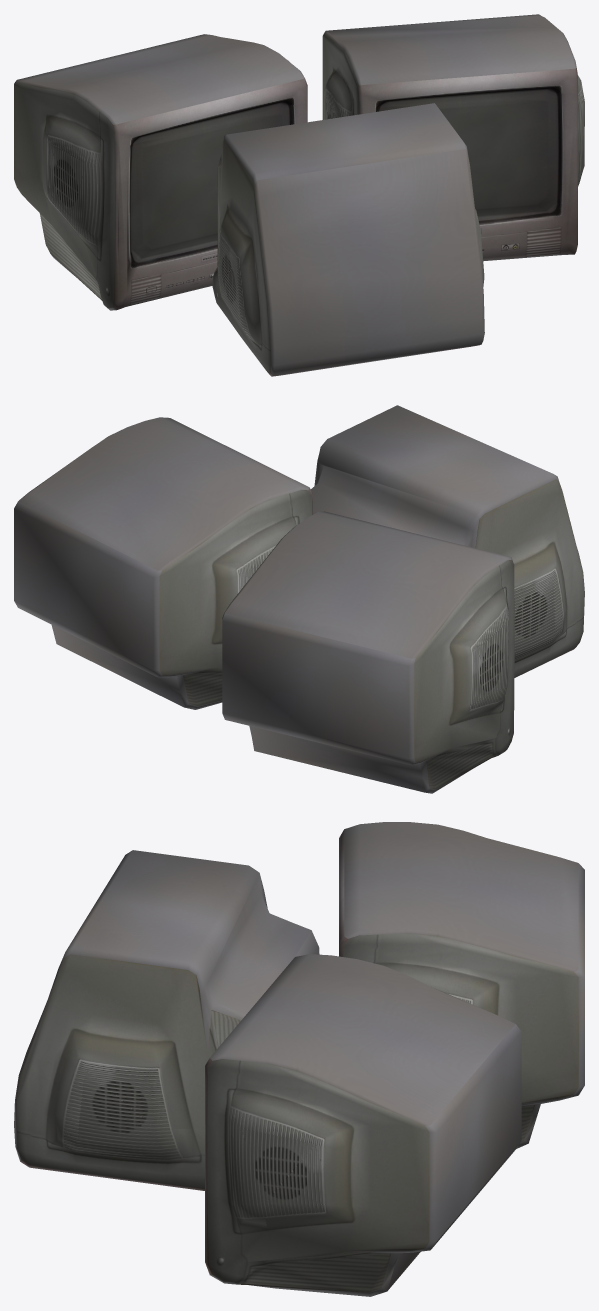
Rendered from CRT_TV3.glb.
3 renders of one model, top to bottom at view 1: azimuth 30°, elevation 25°; view 2: azimuth 150°, elevation 25°; view 3: azimuth 270°, elevation 25°, orthographic. The views are drawn at different scales.
Parts seen in each view (by area): view 1: crtTV3; view 2: crtTV3; view 3: crtTV3.
Part boxes in pixels (x1,y1,x2,y2): crtTV3: (14,14,584,376); crtTV3: (14,405,584,793); crtTV3: (14,822,584,1296).
Size of what is drawn, in the model's own units: 1.83 by 0.748 by 1.62.
3 materials, 3 textured.
